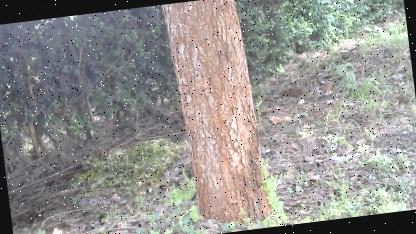tree: (158, 0, 274, 232)
